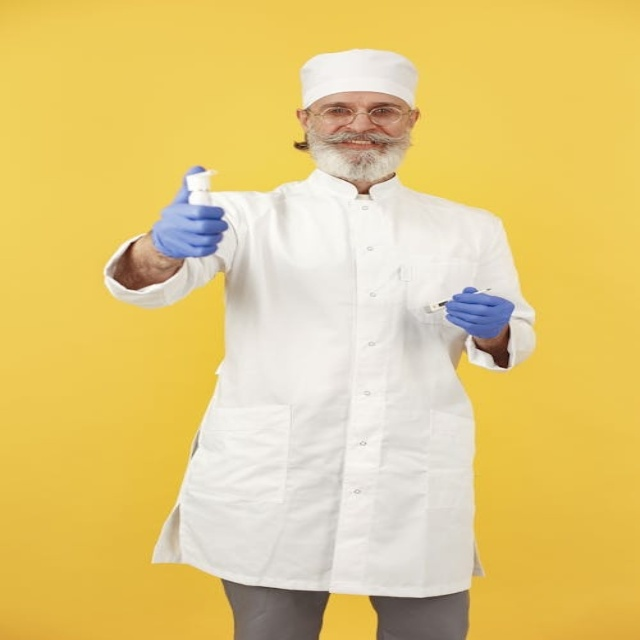Gafas: (305, 105, 415, 127)
Guantes: (152, 167, 227, 260), (444, 286, 515, 339)
Sin_mascara: (334, 134, 385, 170)
